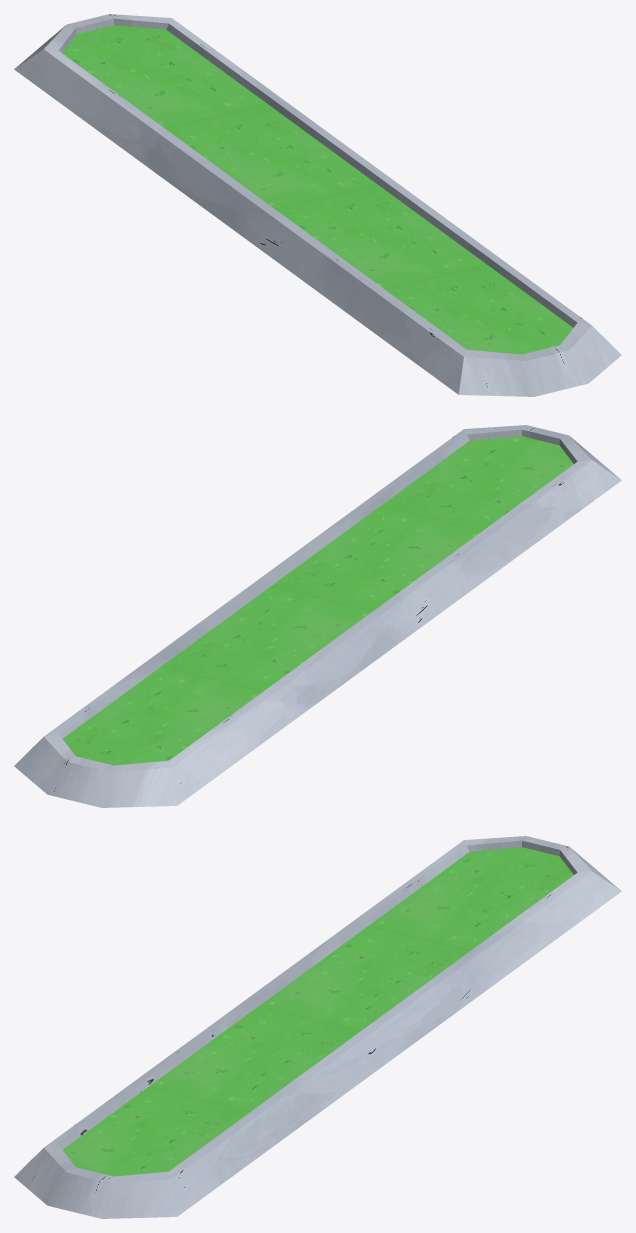
File: traffic-median.FBX
3 renders of one model, top to bottom at view 1: azimuth 30°, elevation 25°; view 2: azimuth 150°, elevation 25°; view 3: azimuth 330°, elevation 25°, orthographic.
Visible parts, largest first — view 1: median1; view 2: median1; view 3: median1.
Part boxes in pixels (x1,y1,x2,y2): median1: (14,14,621,396); median1: (14,425,621,807); median1: (14,836,621,1218).
Bounding box in the file's own units: 13.53 × 2.03 × 69.86.
